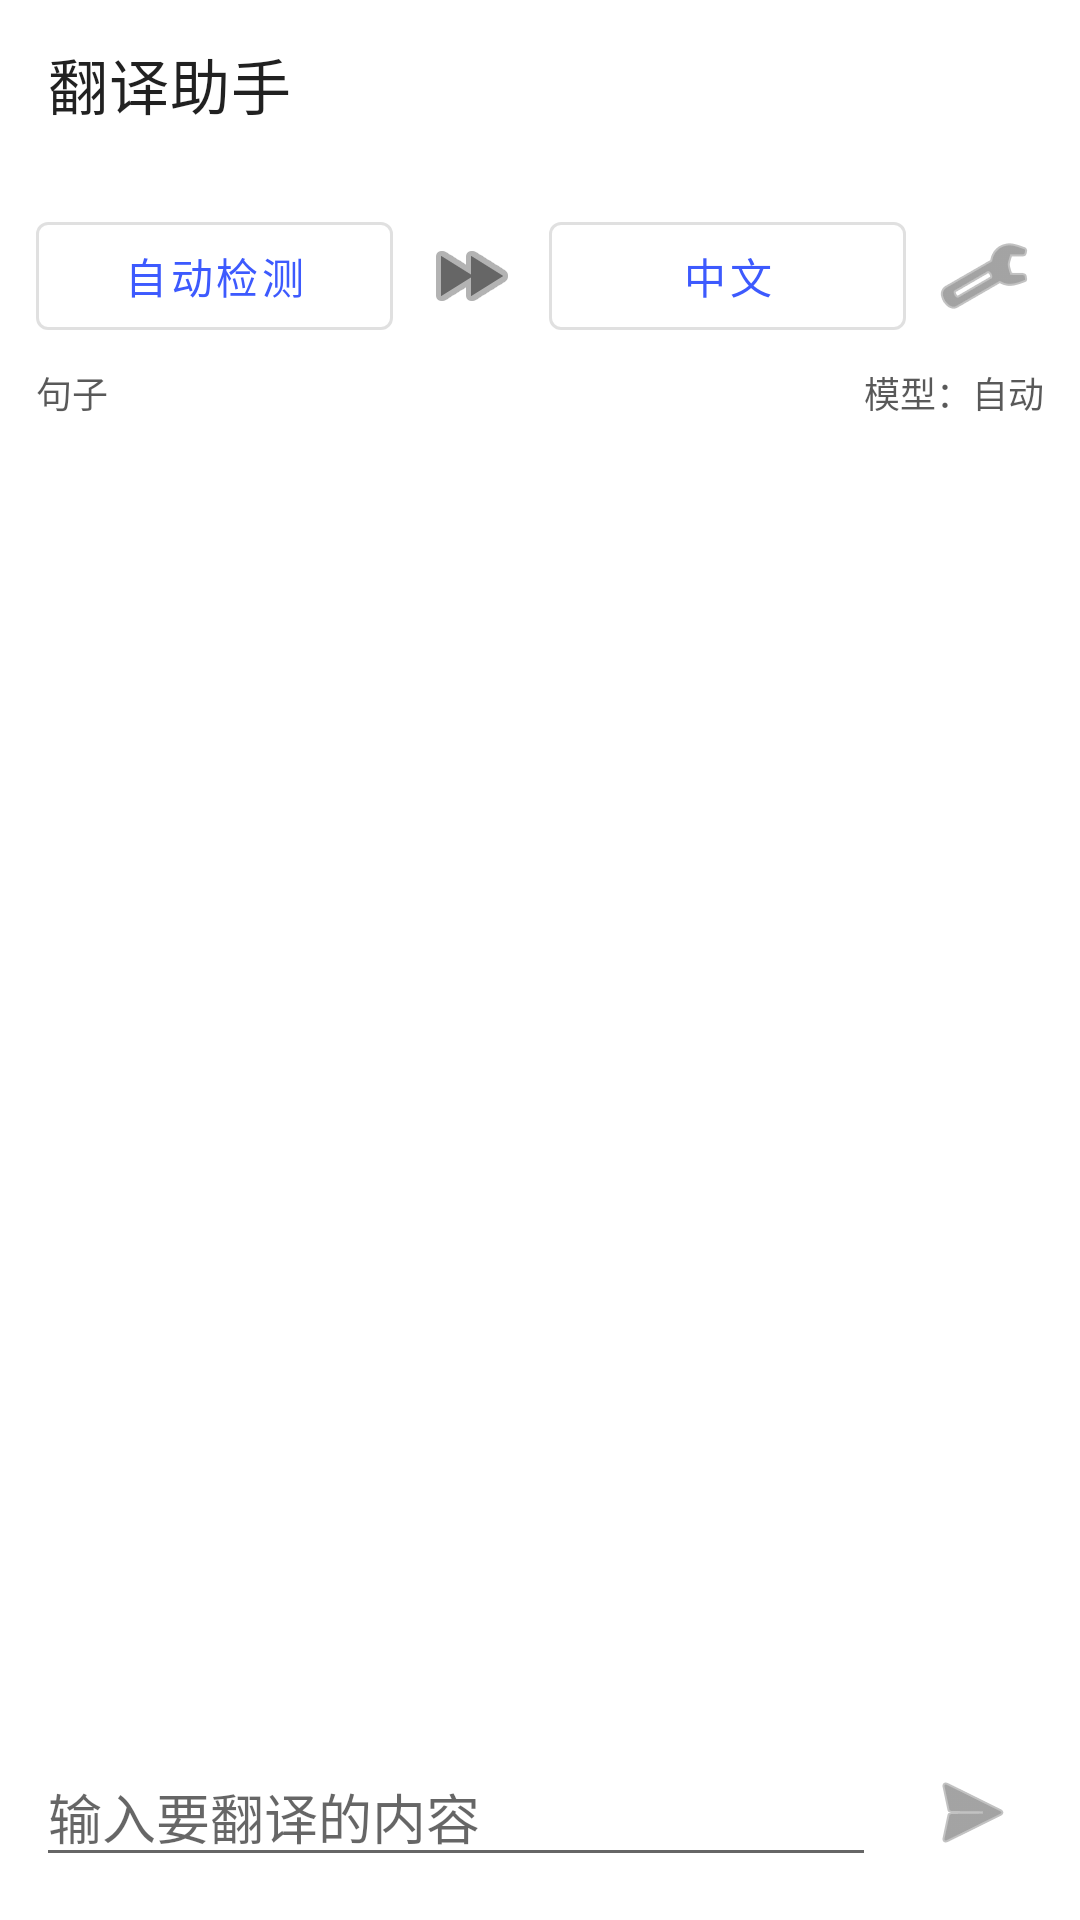

Where icons sit on this 1080 x 1920 app screen, as (x1, y1, x2, y2):
发送: (942, 1782, 1003, 1843)
设置: (941, 243, 1027, 309)
